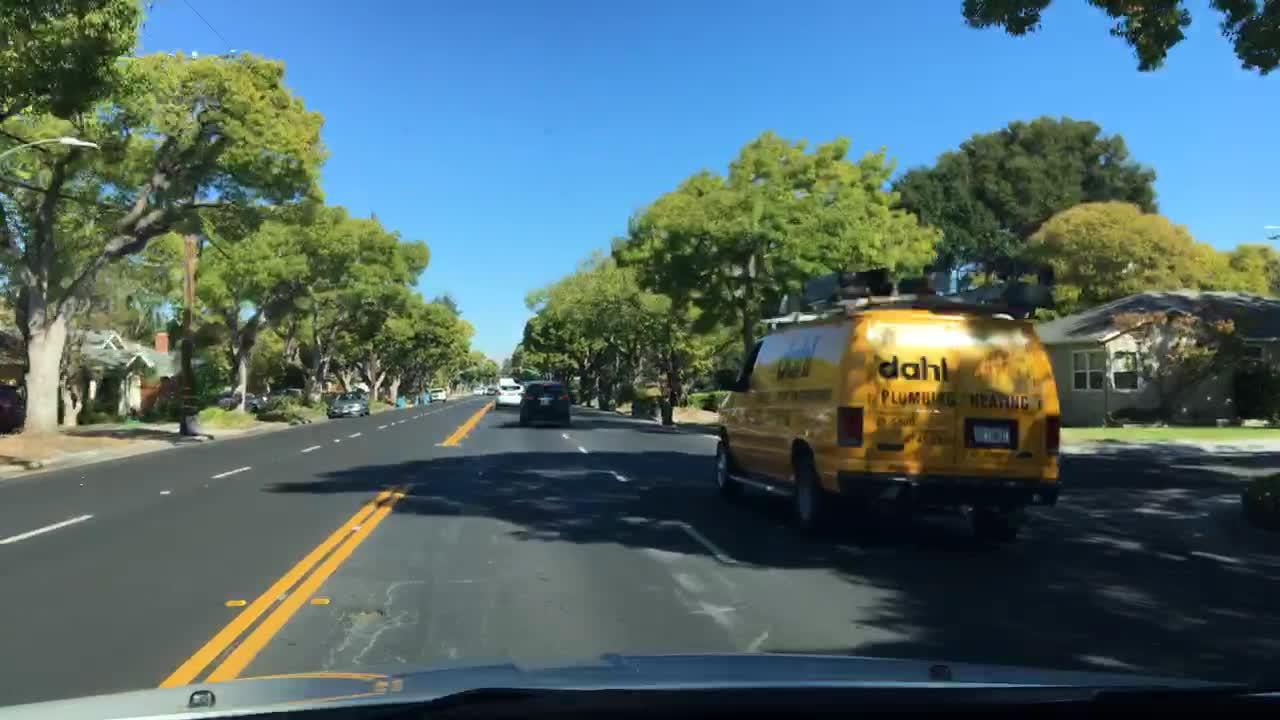car: (698, 269, 1062, 544), (520, 380, 572, 429), (326, 390, 369, 418), (1, 383, 25, 430), (492, 376, 525, 408), (245, 390, 277, 415), (219, 390, 254, 409), (275, 387, 305, 406), (427, 387, 446, 402), (483, 383, 499, 397), (471, 385, 485, 395)
person: (156, 374, 170, 422), (418, 387, 429, 408), (394, 394, 406, 409)
